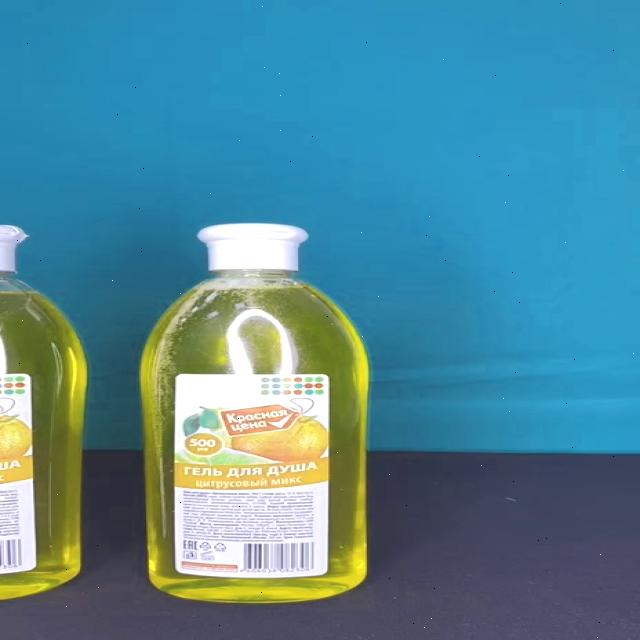Bottle: (139, 222, 371, 602)
Cap: (195, 223, 308, 272)
